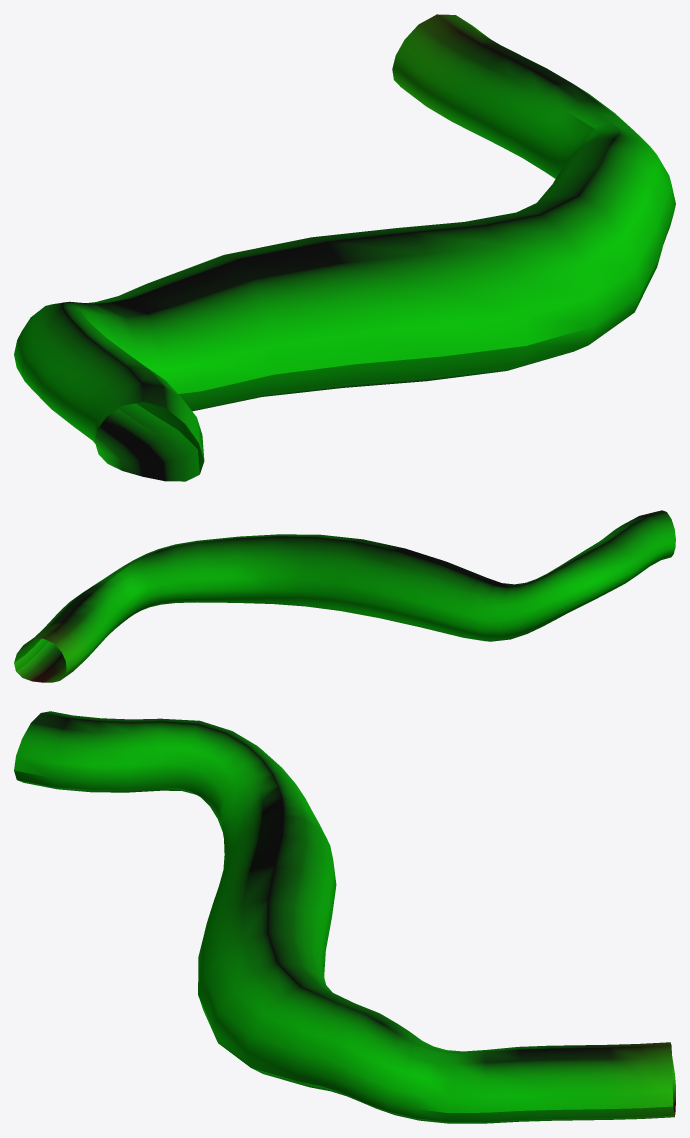
The model's file is transition_to_mountain_castle.obj.
The picture shows the model from 3 angles, top to bottom: view 1: azimuth 30°, elevation 25°; view 2: azimuth 150°, elevation 25°; view 3: azimuth 270°, elevation 25°; orthographic projection. The views are drawn at different scales.
Visible parts, largest first — view 1: Transition; view 2: Transition; view 3: Transition.
Part boxes in pixels (x1,y1,x2,y2): Transition: (14,14,675,481); Transition: (14,510,675,682); Transition: (14,711,675,1123).
Size of the model in its own units: 26.61 by 5.71 by 25.02.
